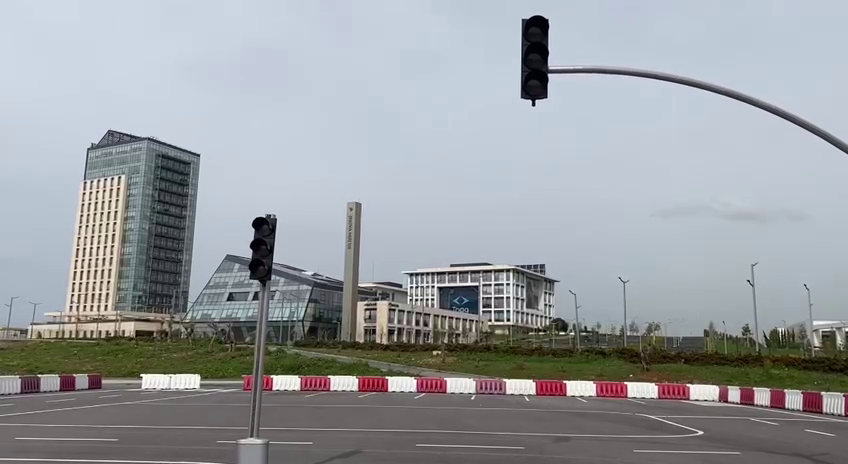trafficLight: (516, 13, 554, 109), (245, 209, 280, 286)
